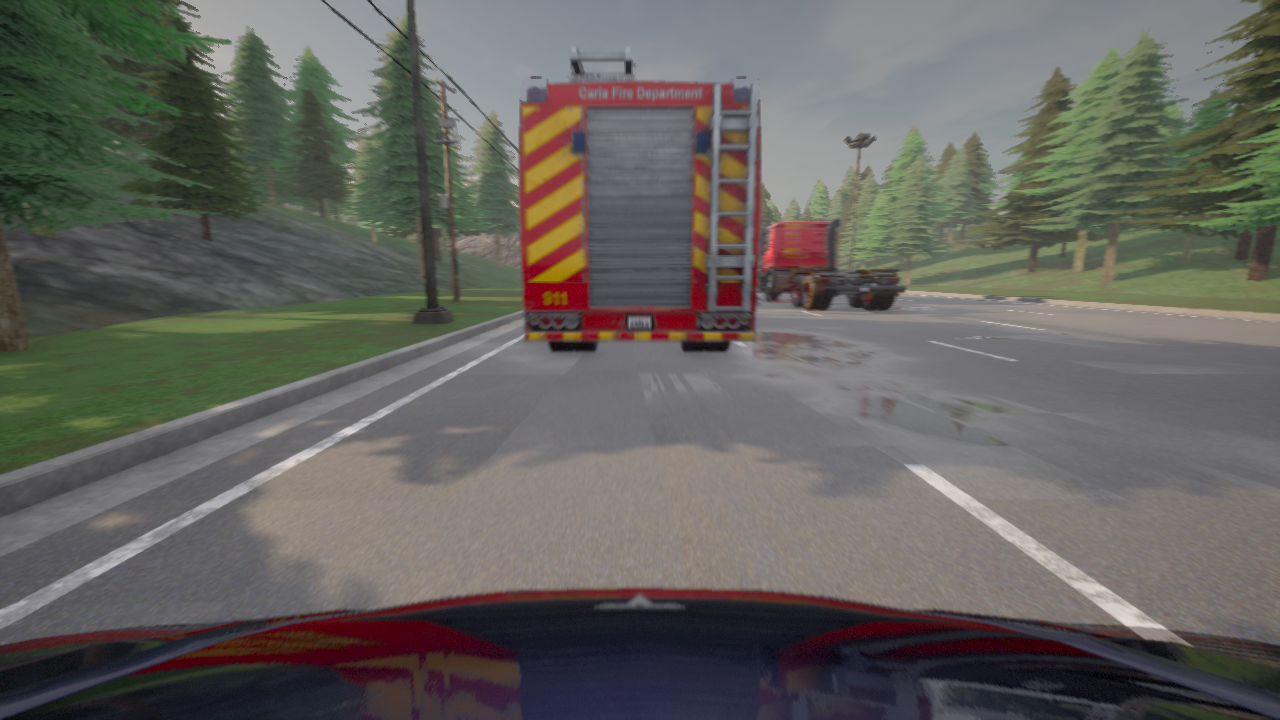cyclist: (0, 588, 1279, 719), (519, 47, 760, 351), (760, 218, 905, 309), (757, 262, 761, 303), (779, 293, 781, 294)
